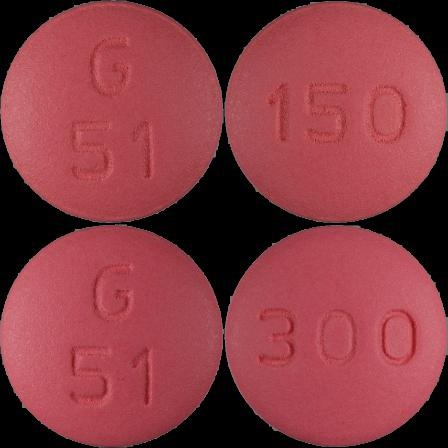68462-248: (0, 0, 224, 224)
